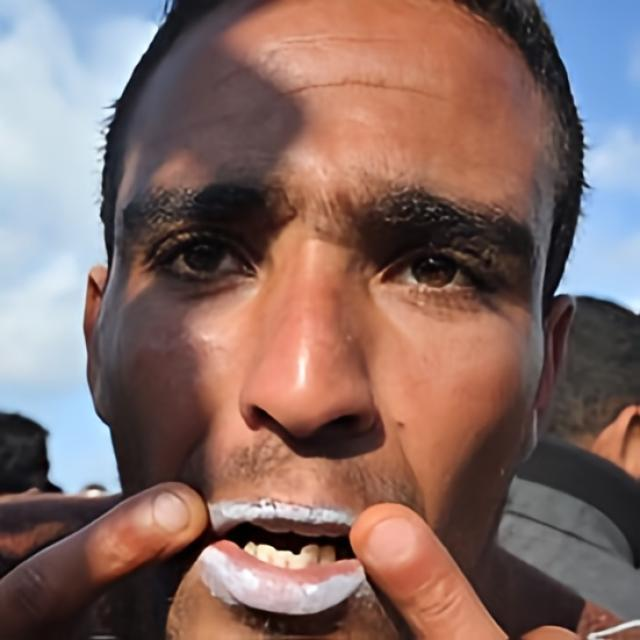sad: (99, 0, 555, 640)
